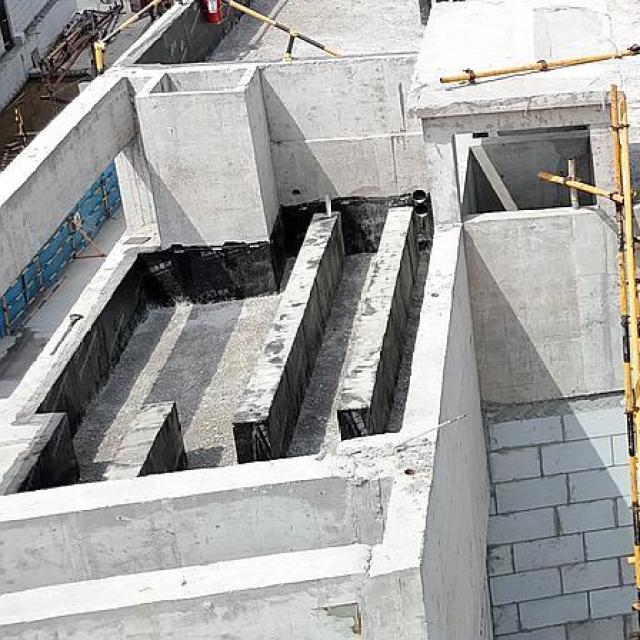edge_guardrail: (218, 0, 342, 60), (92, 0, 167, 76)
